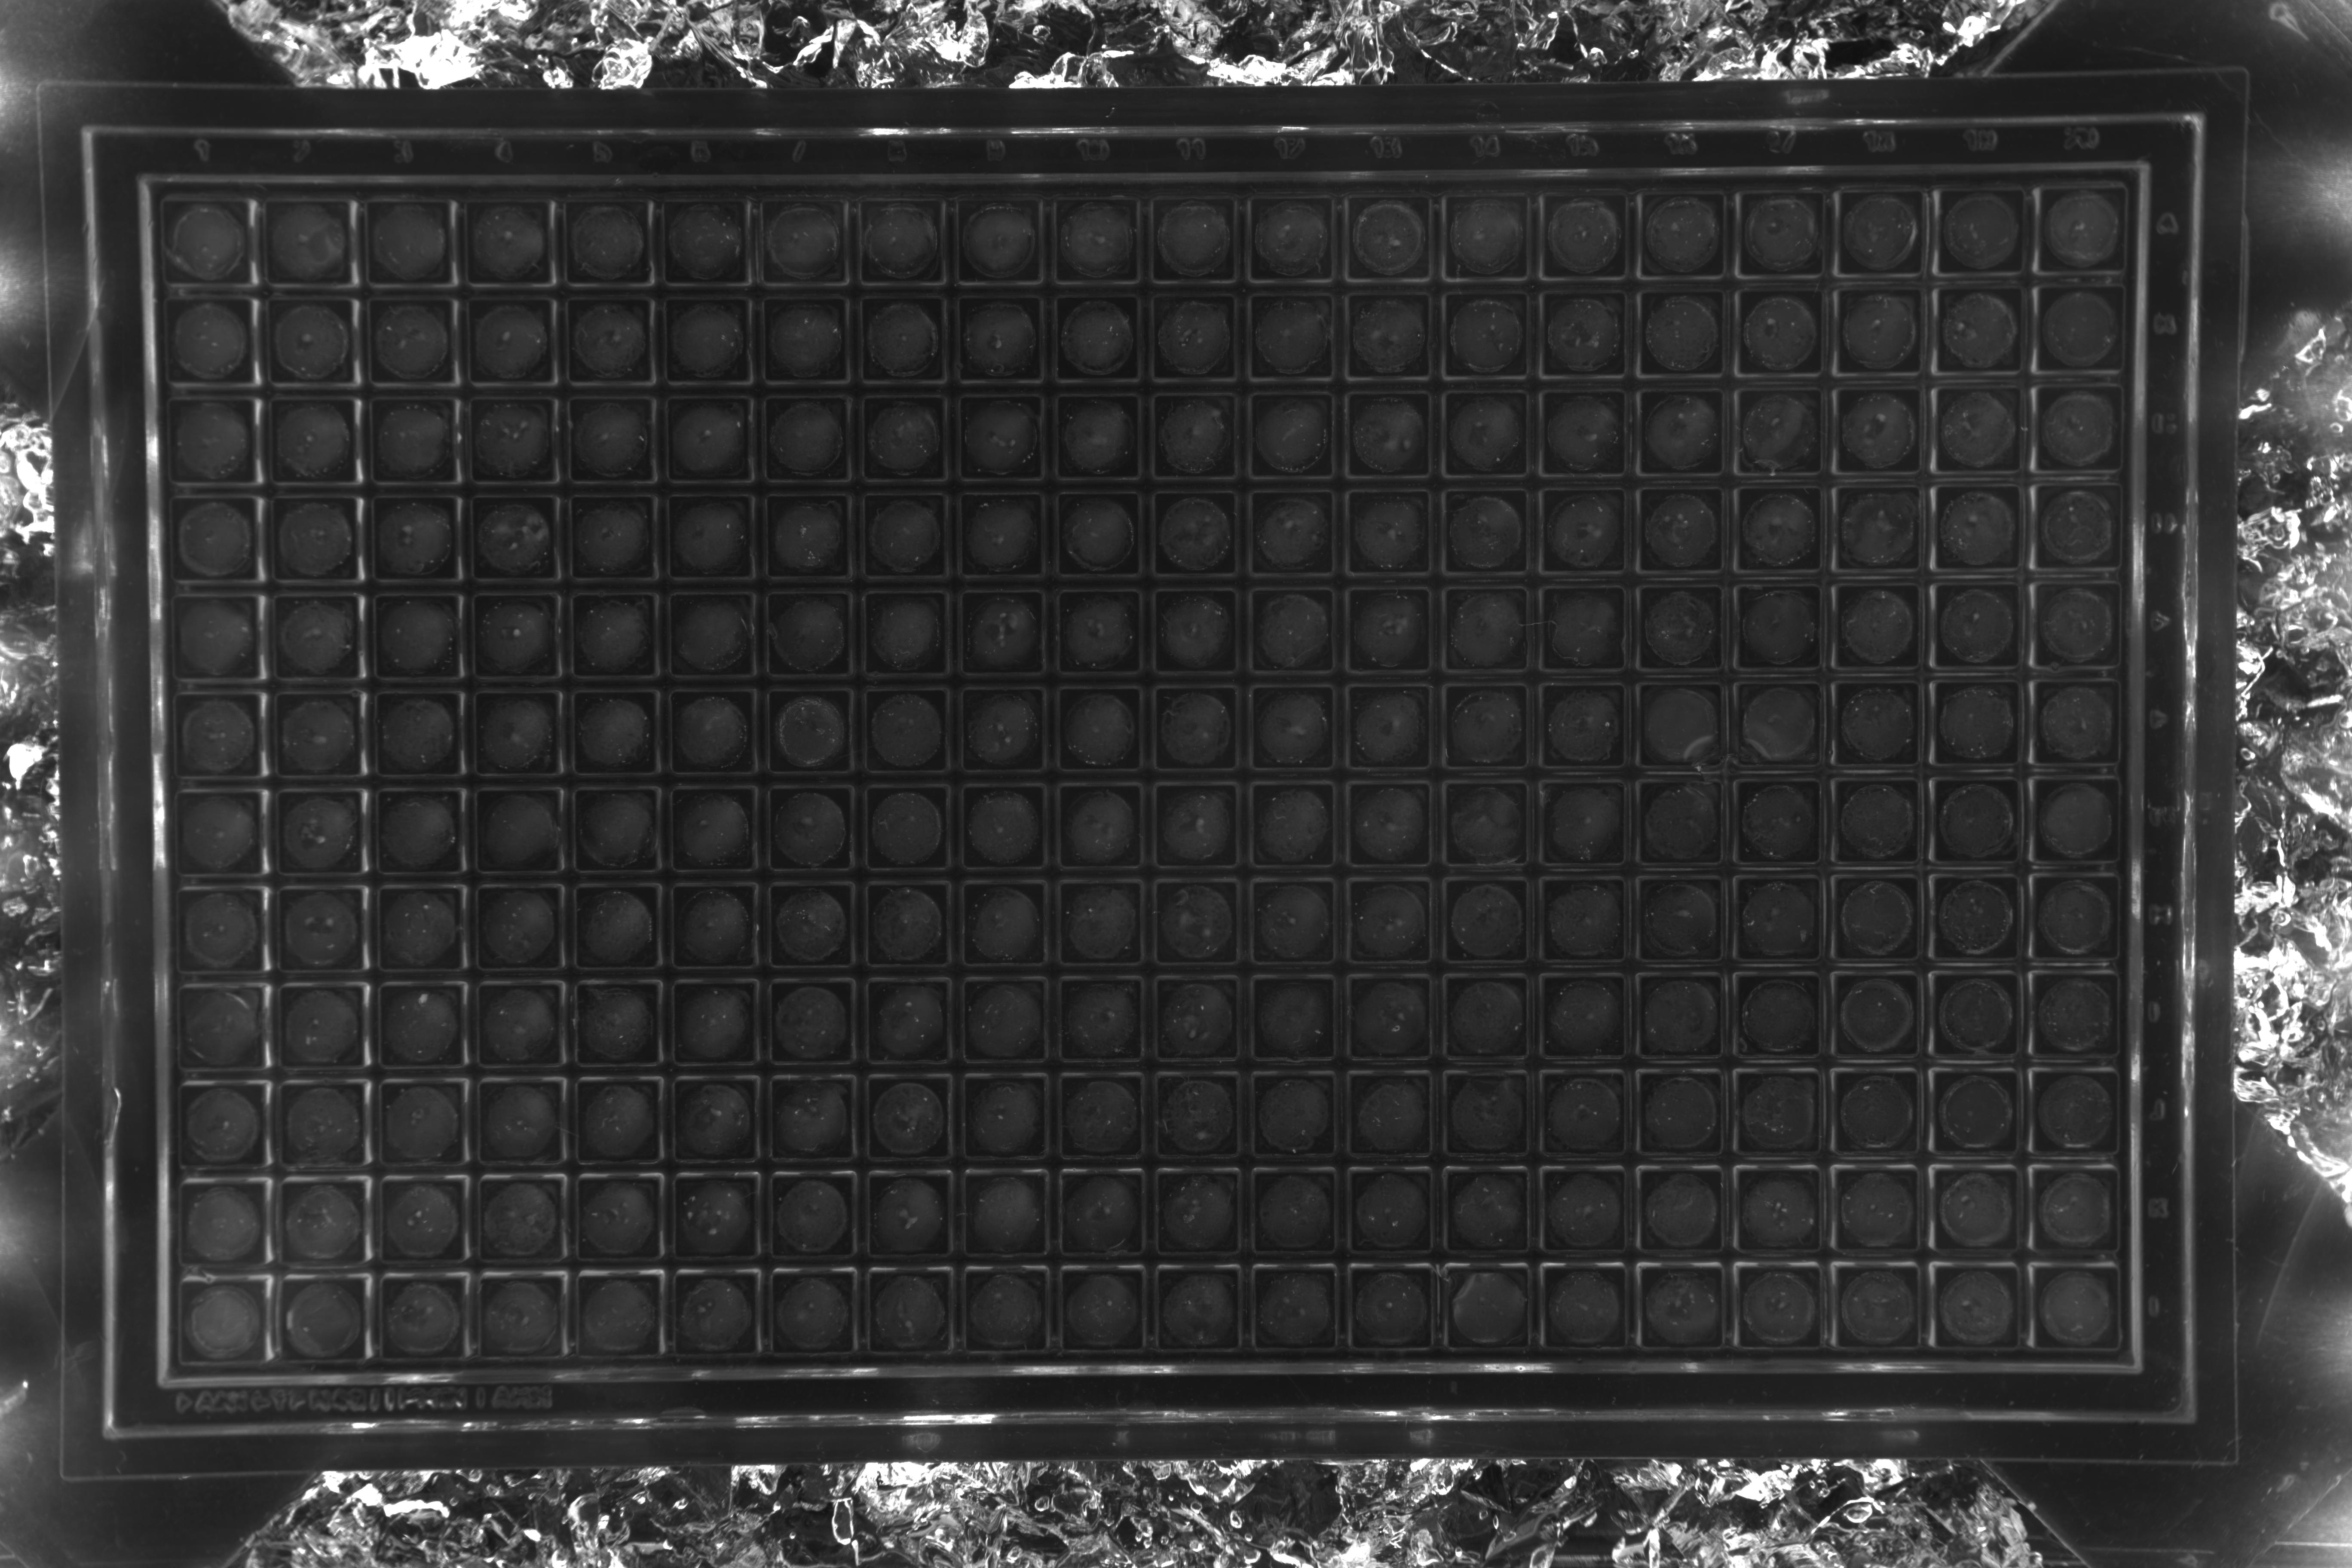WM_well: (493, 535, 583, 623), (497, 1214, 586, 1302), (590, 436, 679, 523), (689, 534, 779, 621), (199, 535, 287, 623), (789, 728, 877, 815), (789, 824, 877, 912), (887, 728, 975, 815), (887, 1018, 975, 1106), (887, 1211, 975, 1298), (983, 630, 1071, 717), (983, 824, 1071, 912), (983, 1017, 1071, 1104), (1466, 630, 1554, 717), (1661, 1017, 1748, 1104), (1664, 530, 1752, 618), (1666, 233, 1753, 320), (1760, 920, 1848, 1008), (1762, 628, 1850, 716), (1764, 331, 1851, 418), (1858, 1017, 1946, 1104), (1864, 329, 1951, 416), (1956, 1213, 2044, 1300), (2056, 1017, 2144, 1104)
